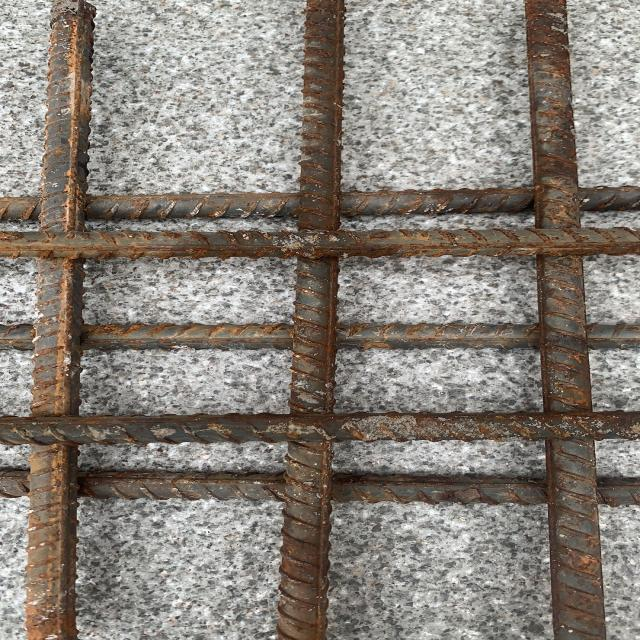ribbed bar: (521, 0, 608, 639), (272, 0, 349, 639), (21, 0, 95, 639), (0, 468, 639, 510), (0, 226, 639, 260), (0, 412, 639, 446), (0, 322, 639, 353)
